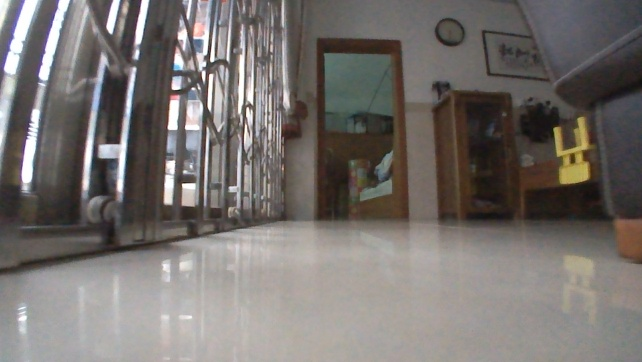bed1: (357, 176, 392, 221)
sofa1: (514, 0, 641, 265)
